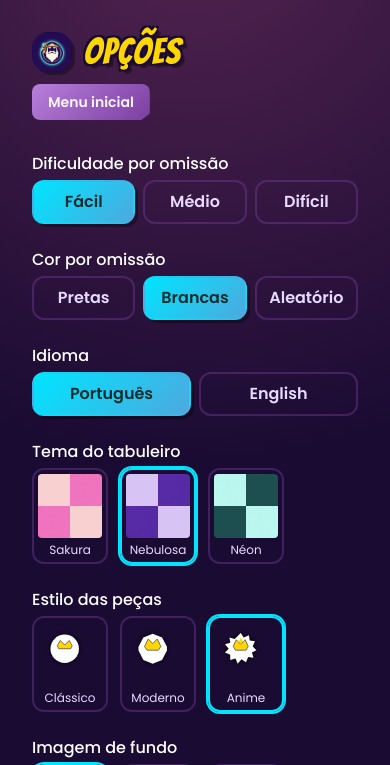
it: OpcoesPage › updates and persists the language, switching the rendered text to English
Click the button "English" at (278, 394), box [199,372,358,416]
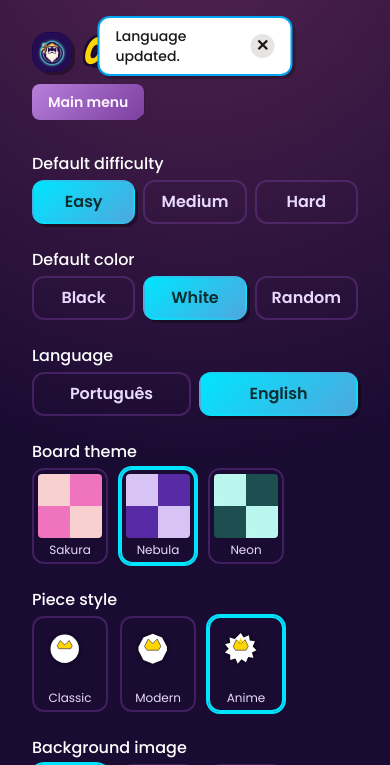
Check: the heading "Options" is shown, box [84,32,192,72]
Check: the message shows "Language updated.", box [116,26,186,66]
